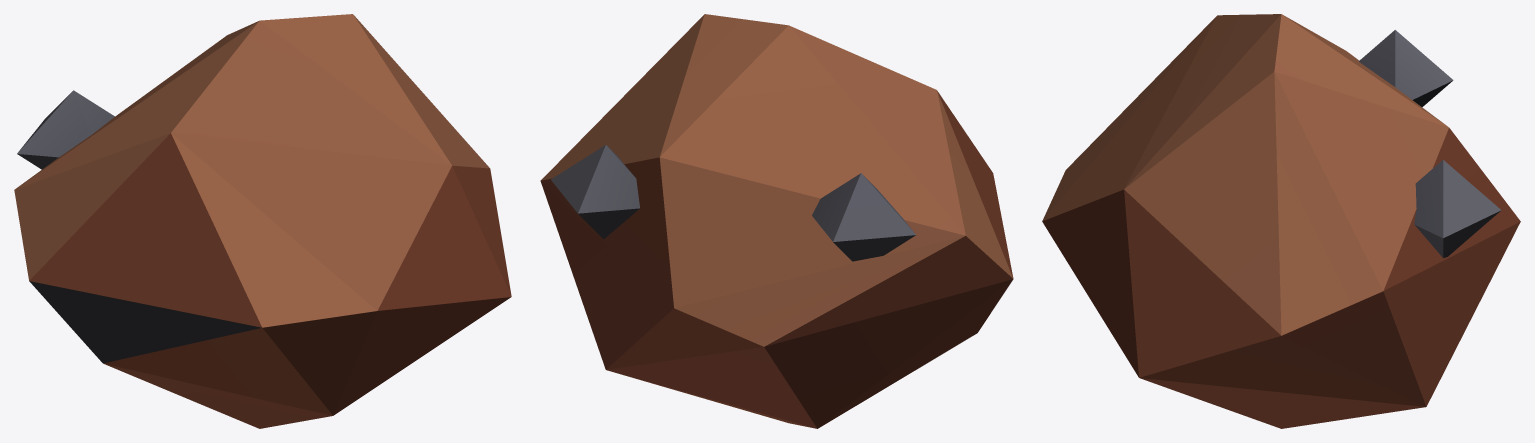
Rendered from ore_iron_low.glb.
3 views of the same model, side by side, from view 1: azimuth 30°, elevation 25°; view 2: azimuth 150°, elevation 25°; view 3: azimuth 270°, elevation 25° (orthographic). The views are drawn at different scales.
Bounding box in the file's own units: 0.26 × 0.22 × 0.23.
